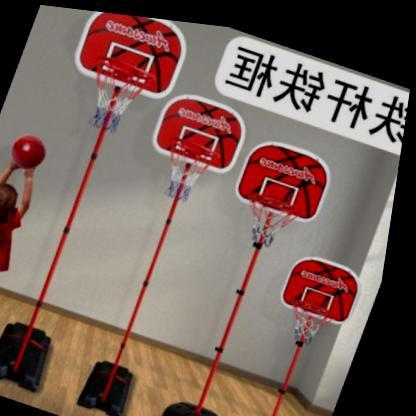basketball: (9, 129, 56, 174)
rim: (76, 50, 158, 137), (155, 130, 227, 204), (242, 183, 312, 249), (287, 289, 345, 343)
